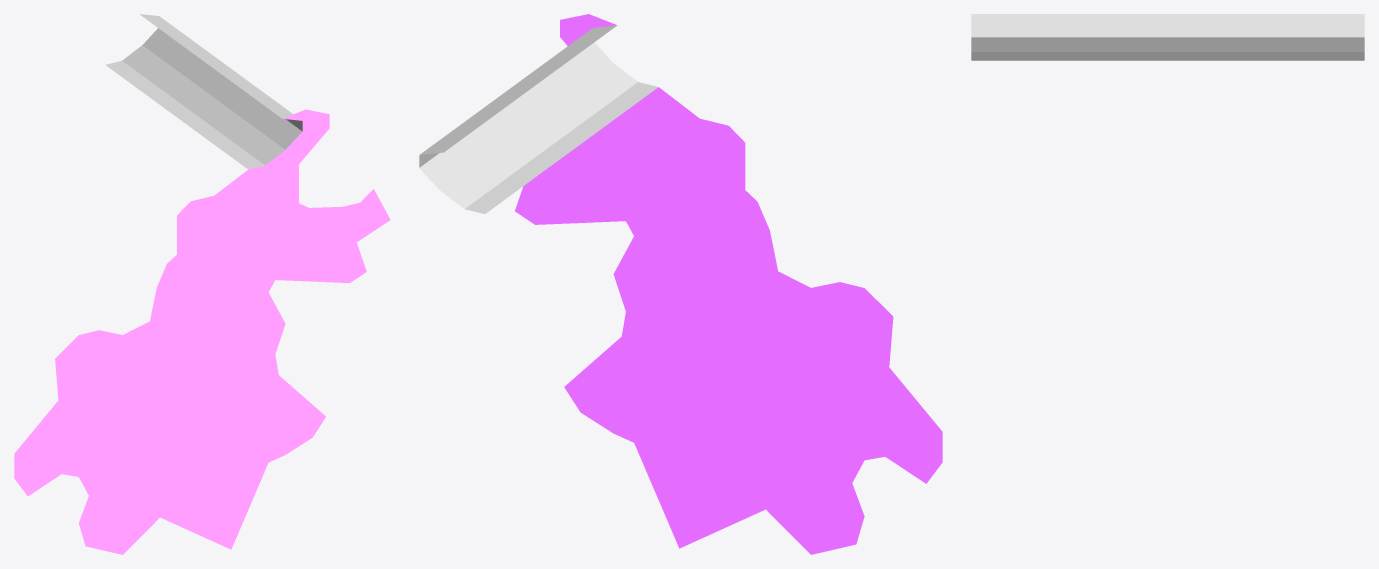
File: gauteng.glb
3 renders of one model, left to right at view 1: azimuth 30°, elevation 25°; view 2: azimuth 150°, elevation 25°; view 3: azimuth 270°, elevation 25°, orthographic. The views are drawn at different scales.
Parts seen in each view (by area): view 1: Cube.008; view 2: Cube.008; view 3: Cube.008.
Boxes of the visible parts, x1=… form: Cube.008: x1=14, y1=14, x2=390, y2=554; Cube.008: x1=419, y1=14, x2=942, y2=554; Cube.008: x1=971, y1=14, x2=1364, y2=60.
Bounding box in the file's own units: 0.5083 × 0.5449 × 0.3348.
